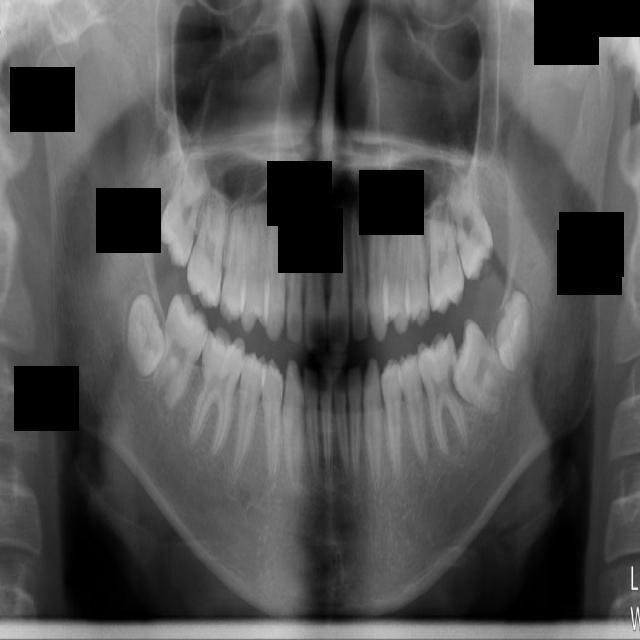BioHorizons Implant: (446, 166, 498, 281)
Biomet 3i Implant: (493, 286, 533, 368)
Blue Sky Bio Implant: (422, 313, 526, 420)
Caries: (150, 138, 218, 268)
Implant: (148, 289, 216, 414)
Keystone Dental Implant: (127, 292, 165, 375)
